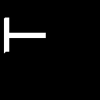half_double_crochet: (4, 18, 45, 52)
